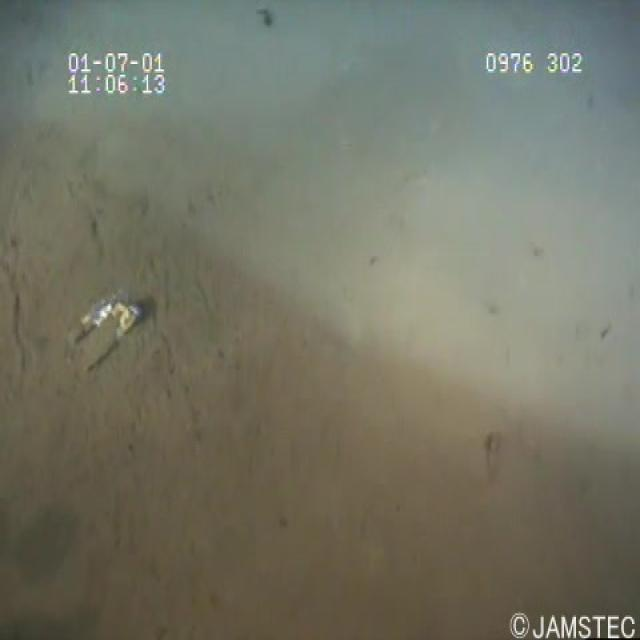plastic: (59, 279, 154, 377)
